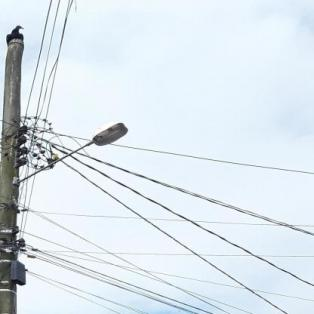Poste: (0, 25, 34, 314)
